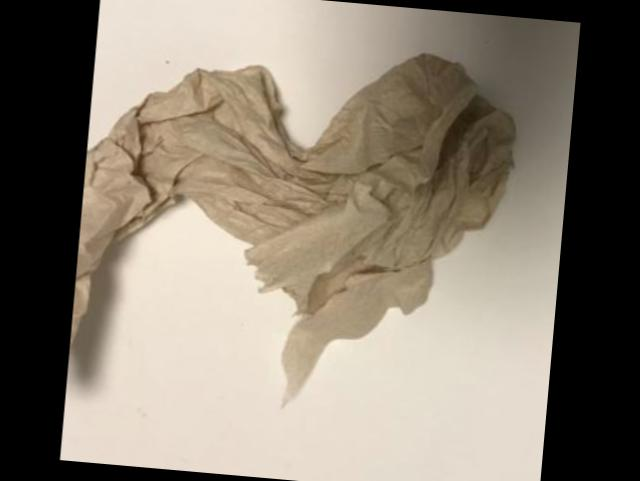cardboard paper: (70, 55, 511, 402)
